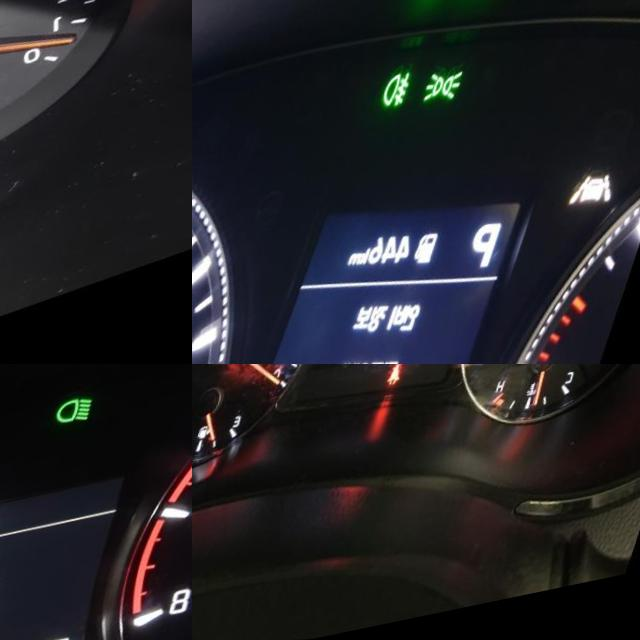FrontFogLight: (392, 82, 427, 124)
Low beam: (62, 409, 105, 443)
SideLamp: (434, 81, 480, 121)
